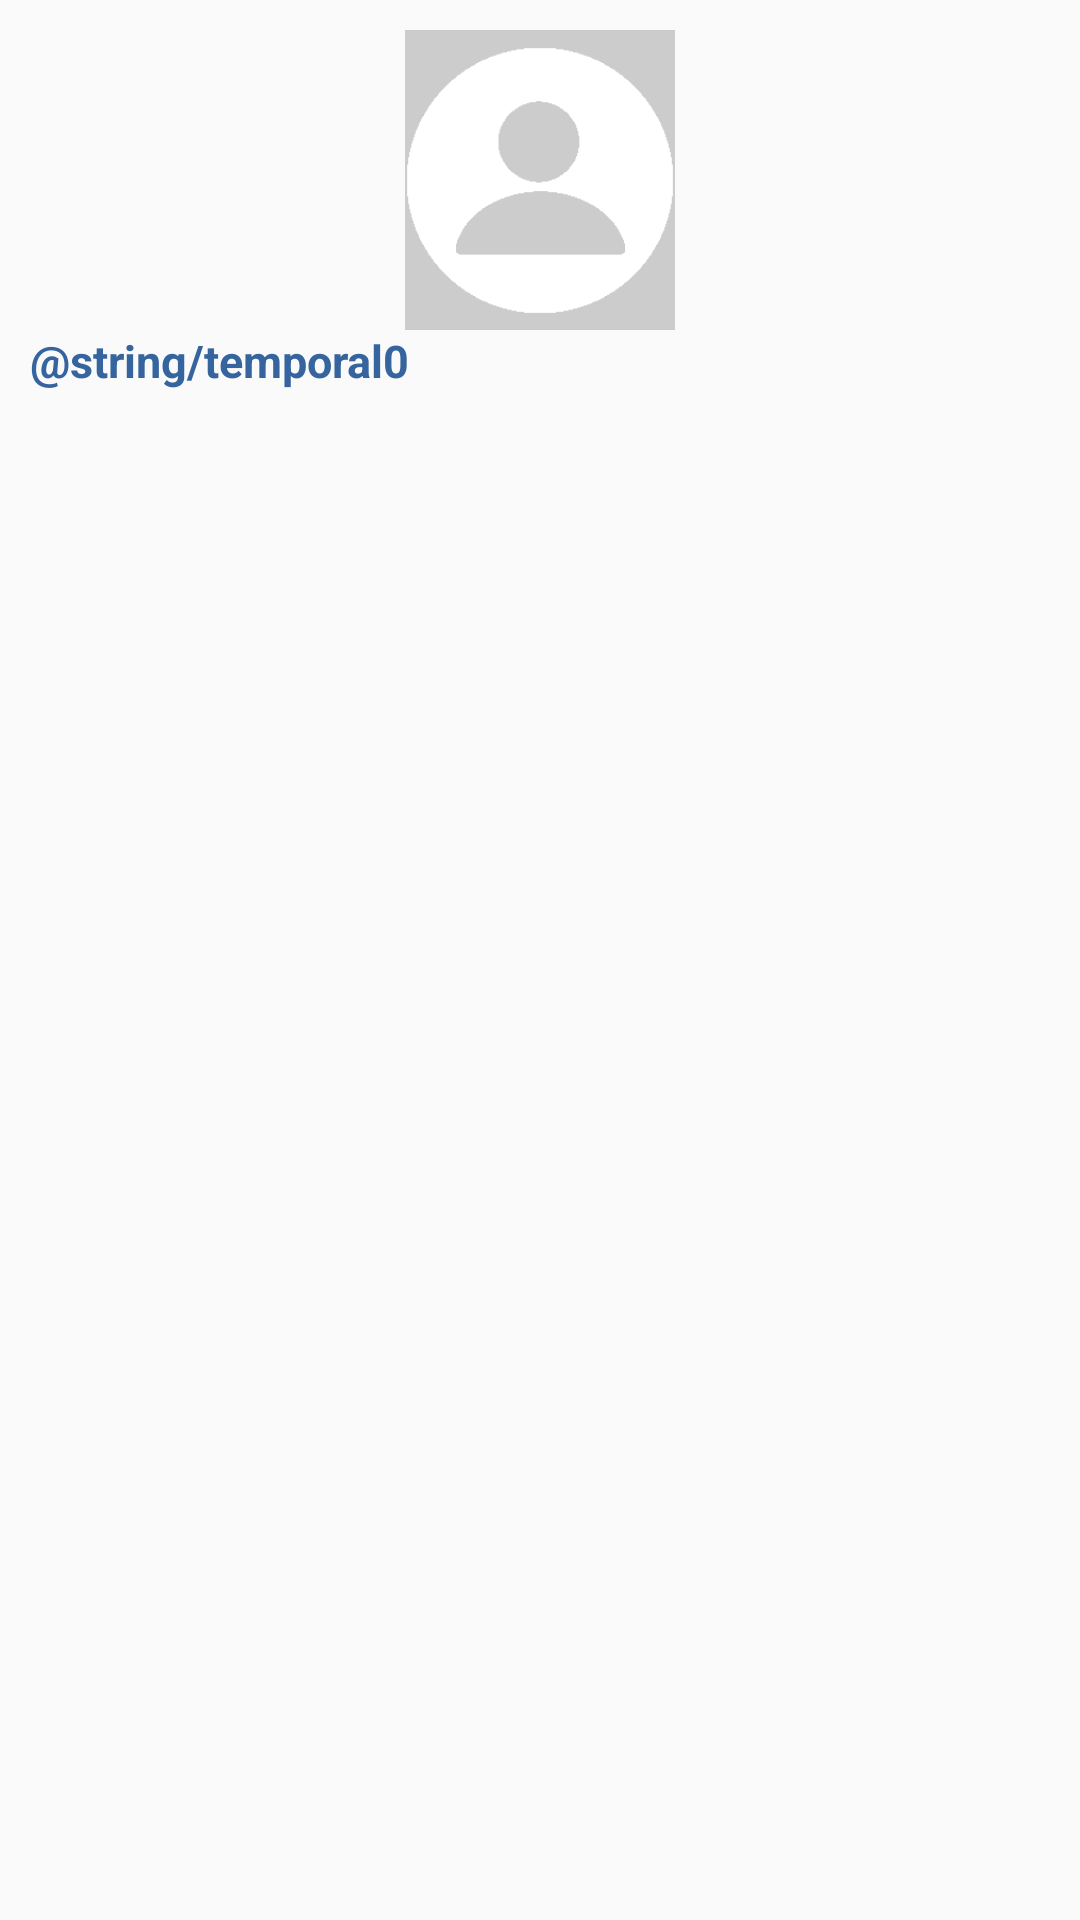

Screen size 1080 x 1920. Icon name, then its center in pixels as (x,y):
Ajustes Perfil: (540,180)
